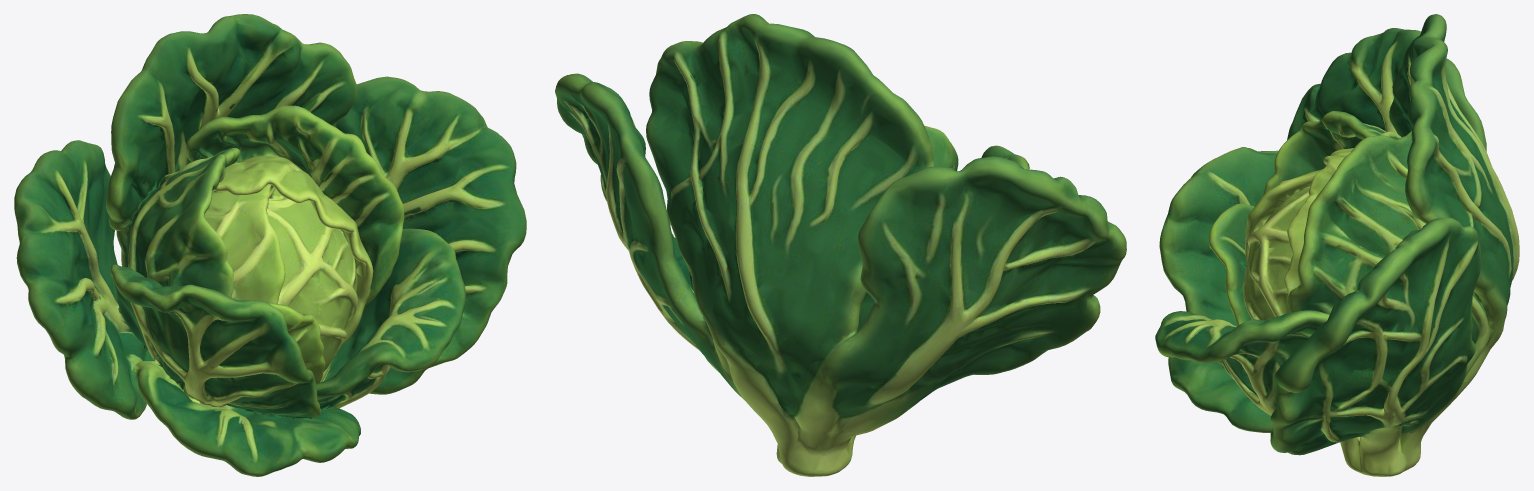
The model's file is cabbage-growing.glb.
3 renders of one model, left to right at view 1: azimuth 30°, elevation 25°; view 2: azimuth 150°, elevation 25°; view 3: azimuth 270°, elevation 25°, orthographic. The views are drawn at different scales.
Size of the model in its own units: 1.9 by 1.53 by 1.17.
1 material, 1 textured.
